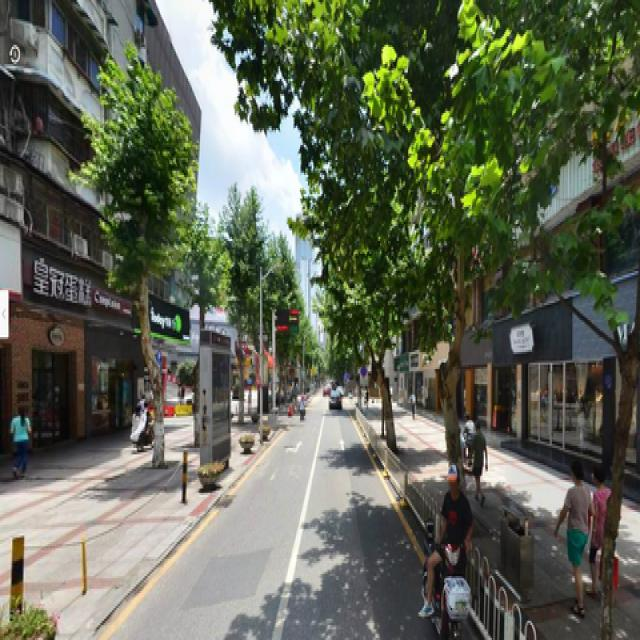meta: (80, 60, 196, 463)
